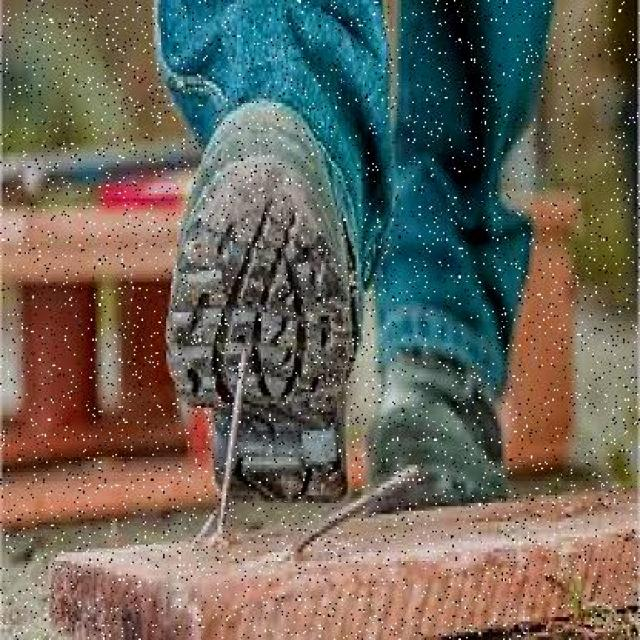shoes: (164, 118, 365, 507)
